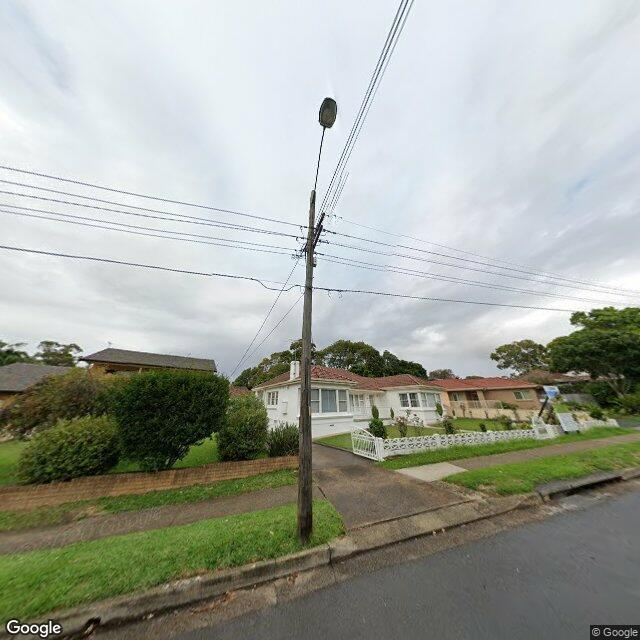crossarm: (303, 213, 325, 251), (303, 225, 324, 254)
streetlight: (311, 97, 338, 207)
timber-pole: (298, 190, 316, 542)
